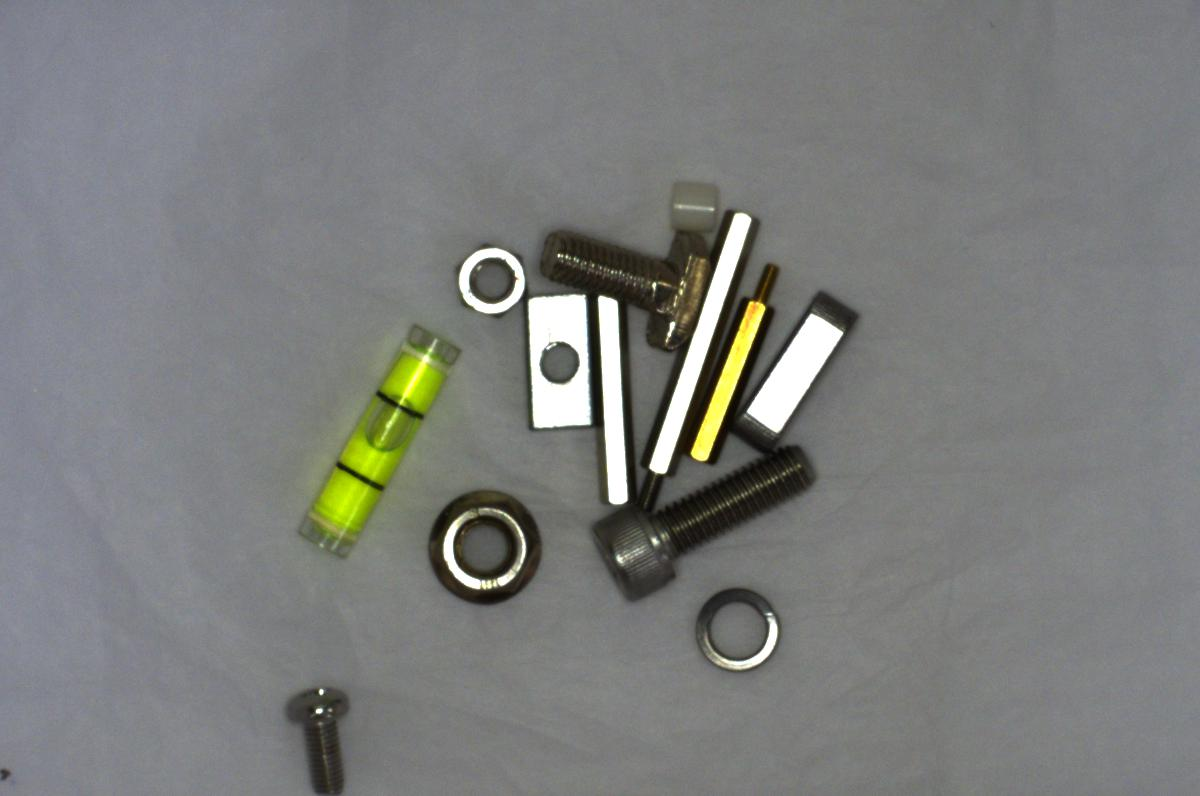Double hexagonal column: (587, 291, 638, 512)
Flange nut: (411, 485, 551, 608)
Hexagon nut: (447, 231, 532, 323)
Hexagon pillar: (684, 256, 788, 477)
Hexagon screw: (585, 445, 825, 604)
Hexagonal steel column: (641, 205, 770, 504)
Horizontal bubble: (287, 318, 473, 559)
Keybar: (739, 285, 864, 453)
Plastic cushion pillar: (661, 174, 723, 235)
Rectangular nut: (514, 290, 600, 436)
Round head screw: (284, 678, 364, 789)
Spring washer: (685, 576, 787, 676)
T-shaped screw: (534, 241, 720, 349)
